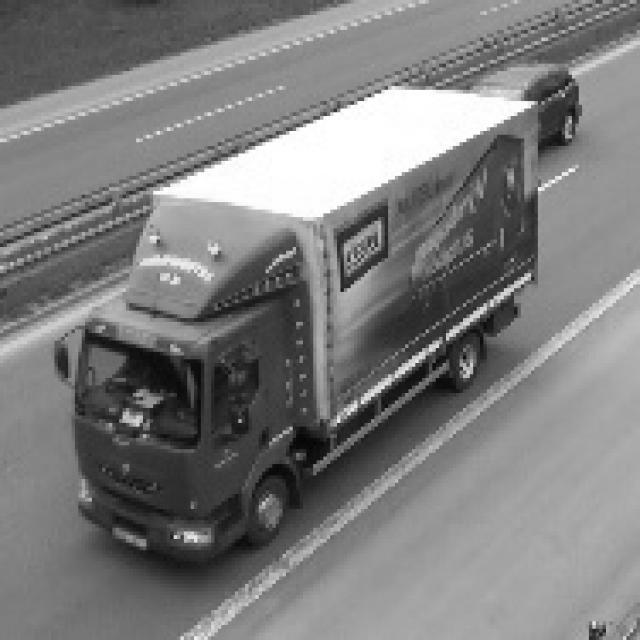truck: (44, 187, 337, 576)
